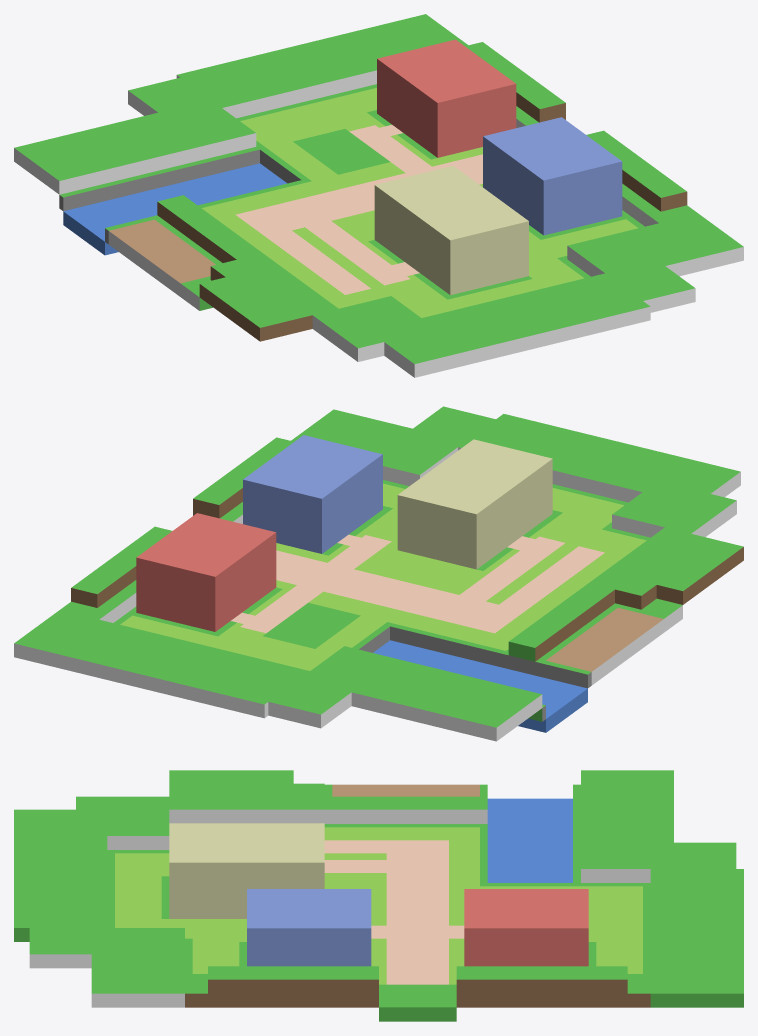
Rendered from Pallet Town.fbx.
3 views of the same model, one above another, from view 1: azimuth 30°, elevation 25°; view 2: azimuth 150°, elevation 25°; view 3: azimuth 270°, elevation 25° (orthographic). The views are drawn at different scales.
Parts seen in each view (by area): view 1: Elevações, Cube.071, Laboratório, CasaBlue, CasaRed, Mar; view 2: Elevações, Cube.071, Laboratório, CasaRed, CasaBlue, Mar; view 3: Elevações, Cube.071, Laboratório, CasaRed, CasaBlue, Mar.
Boxes of the visible parts, box(x1,y1,x2,y2) form: Elevações: box(14, 14, 743, 377); Cube.071: box(59, 84, 644, 317); Laboratório: box(374, 166, 528, 295); CasaBlue: box(483, 117, 622, 235); CasaRed: box(377, 39, 516, 157); Mar: box(63, 163, 287, 255); Elevações: box(14, 406, 743, 741); Cube.071: box(114, 480, 682, 721); Laboratório: box(397, 439, 552, 569); CasaRed: box(136, 513, 276, 631); CasaBlue: box(243, 435, 382, 553); Mar: box(373, 640, 587, 732); Elevações: box(14, 770, 743, 1007); Cube.071: box(107, 784, 650, 1021); Laboratório: box(169, 823, 324, 918); CasaRed: box(464, 889, 588, 966); CasaBlue: box(247, 889, 371, 966); Mar: box(487, 798, 572, 882).
Size of the model in its own units: 6800 by 1200 by 9400.
